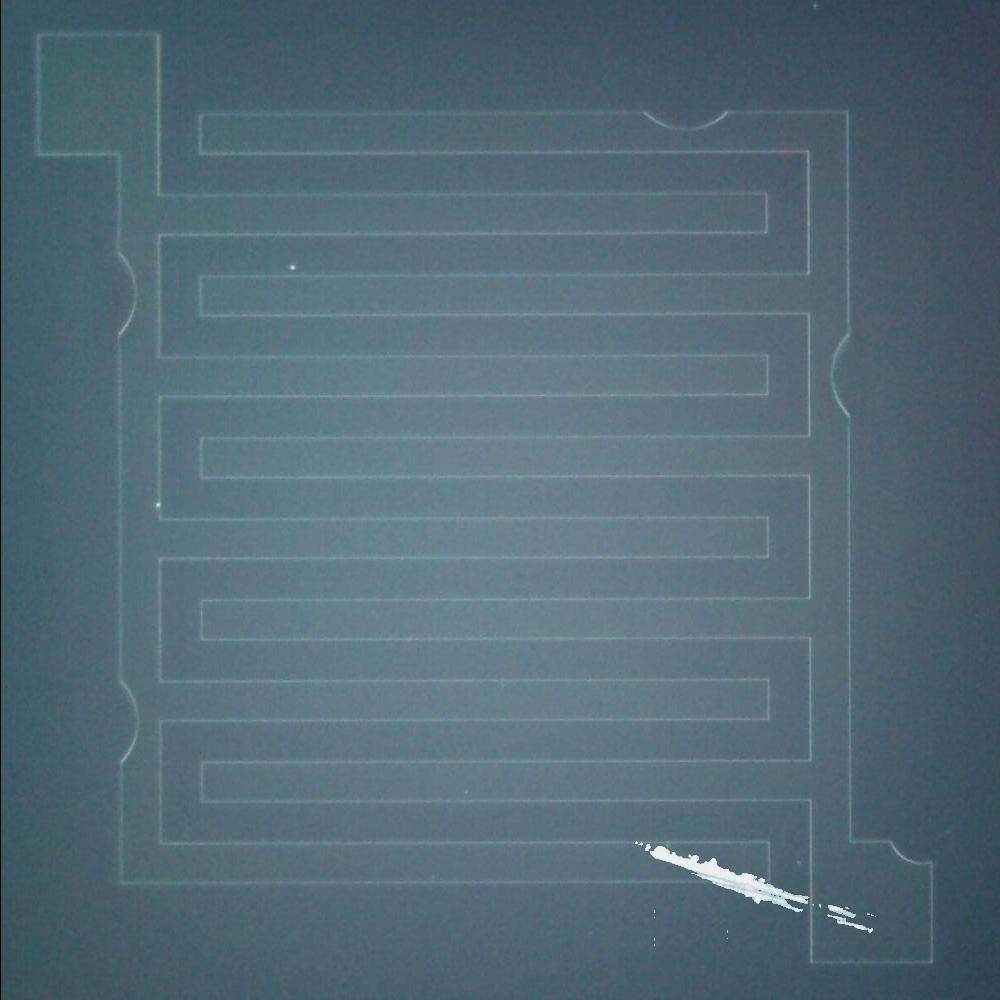curve circuit: (627, 96, 746, 142), (103, 231, 148, 350), (822, 320, 862, 435), (103, 667, 144, 774), (879, 824, 942, 887)
dot: (280, 257, 304, 274)
scratch: (629, 828, 882, 946)
